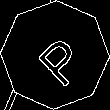P_NW: (24, 24, 86, 86)
